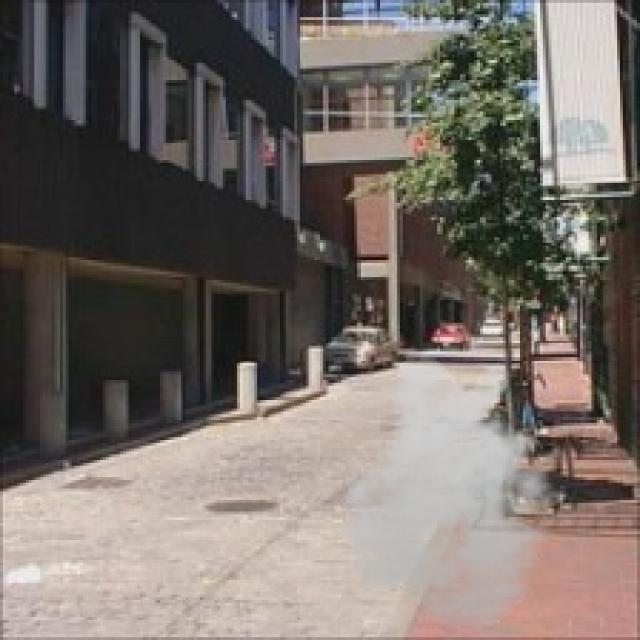smoke: (329, 352, 577, 632)
